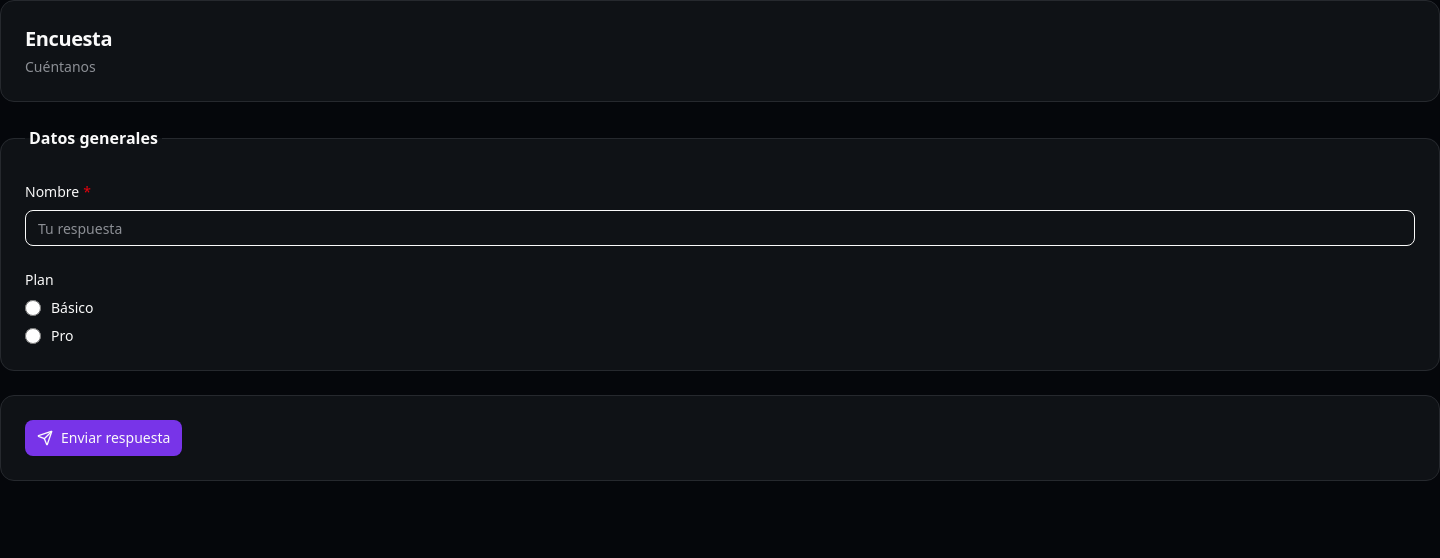
it: RenderizadorFormulario › valida requeridas antes de enviar
Click the button "Enviar respuesta" at [104, 438], box [25,420,182,456]
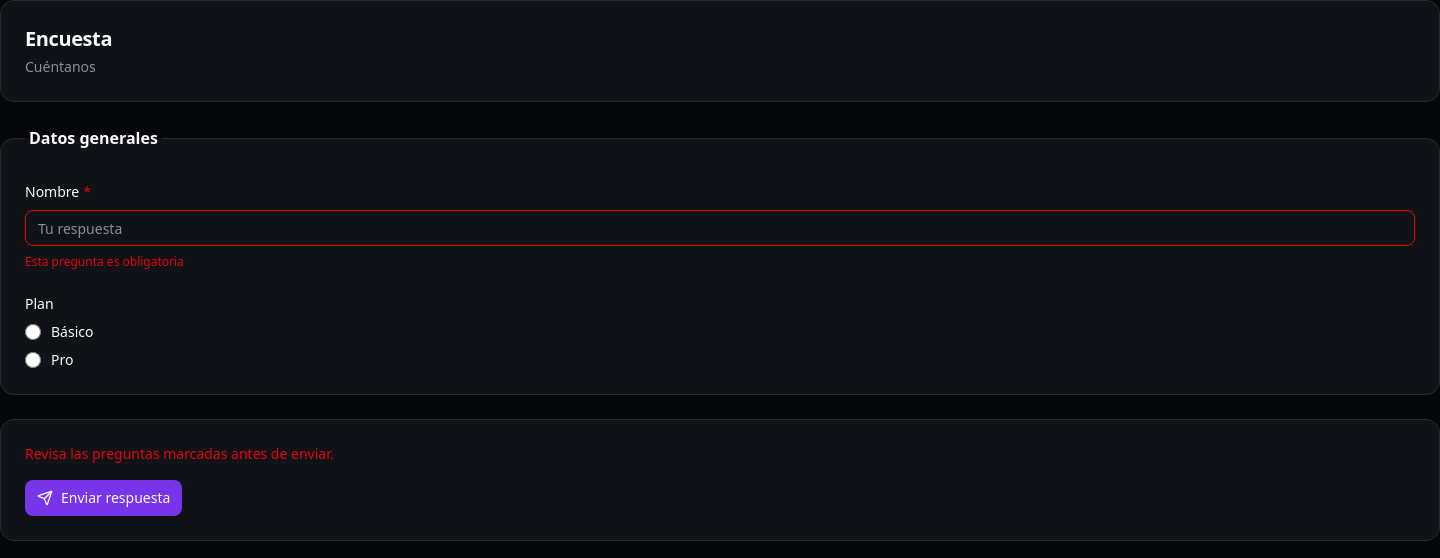
Expected: the text "Esta pregunta es obligatoria" is shown, [25,253,184,270]
